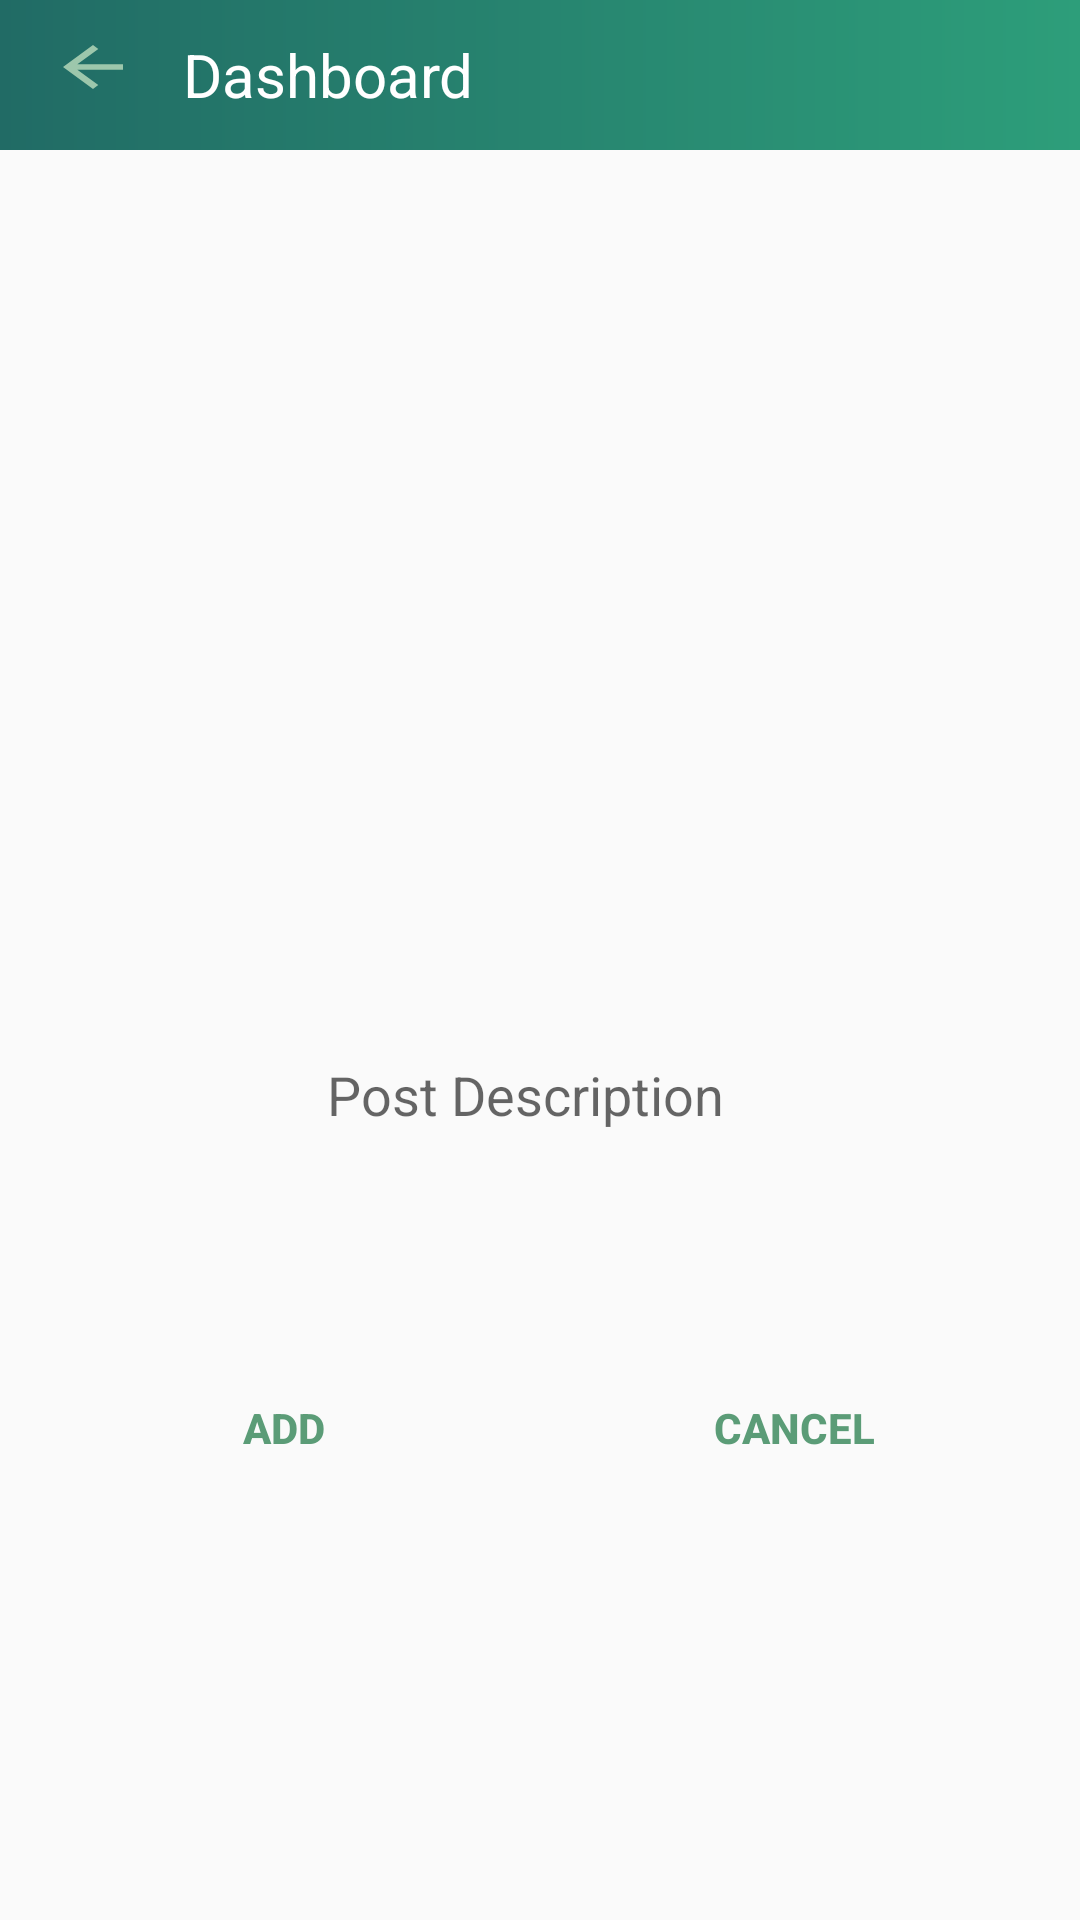

Where icons sit on this 1080x1920 app screen, as bbox=[x1, y1, x2, y2]:
back: bbox=[63, 45, 123, 89]
